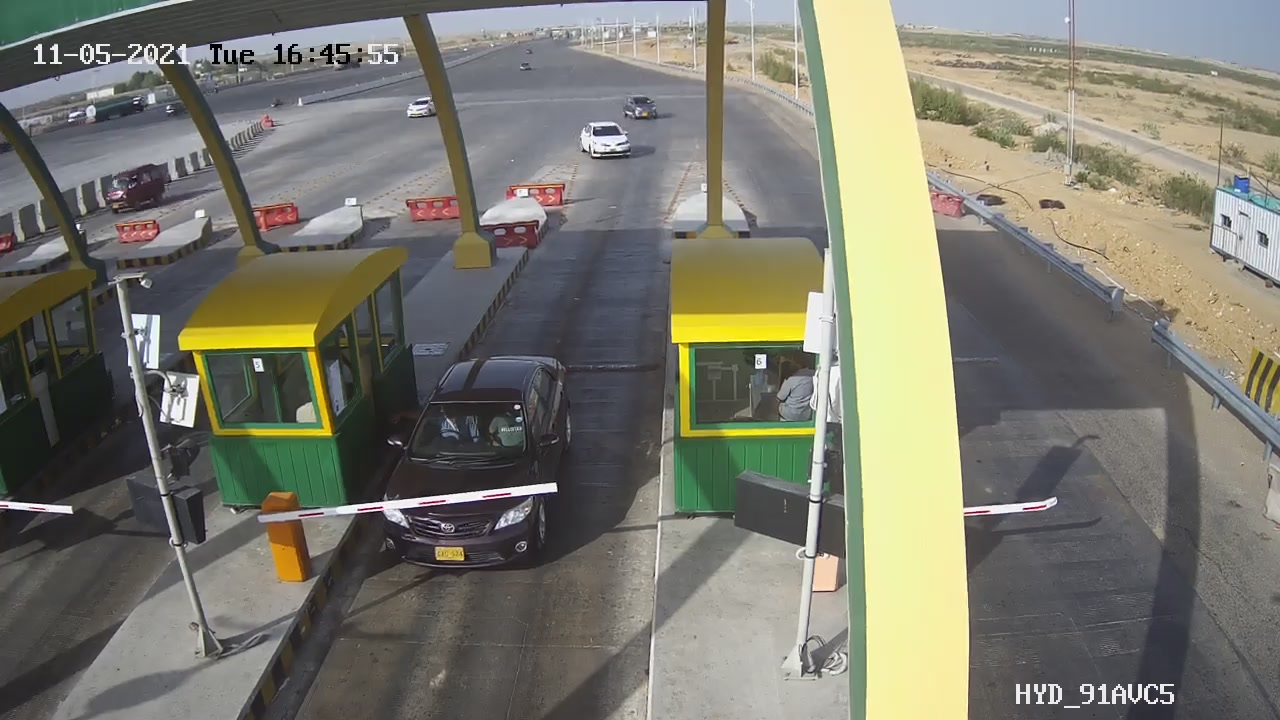F1: (350, 332, 601, 599)
